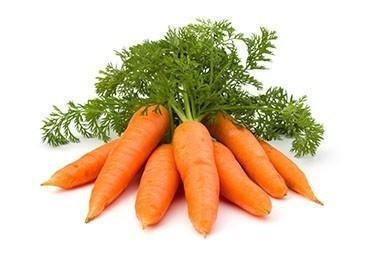carrot: (44, 103, 322, 224), (94, 104, 321, 222), (150, 103, 240, 231)
